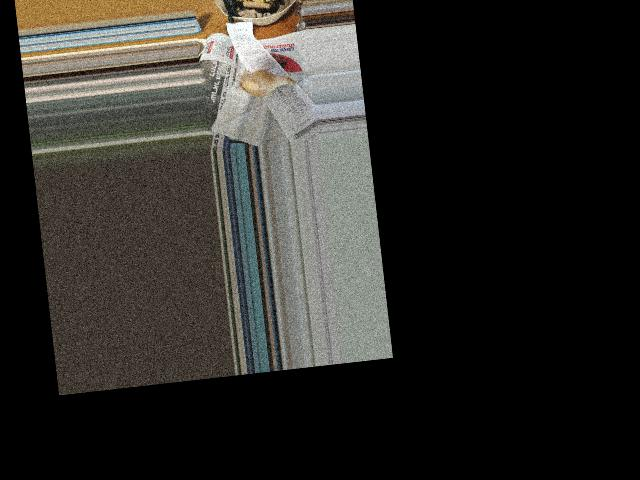onion: (239, 70, 277, 95)
